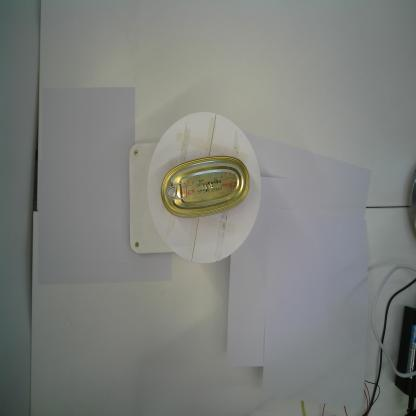Canned Food: (160, 155, 251, 219)
